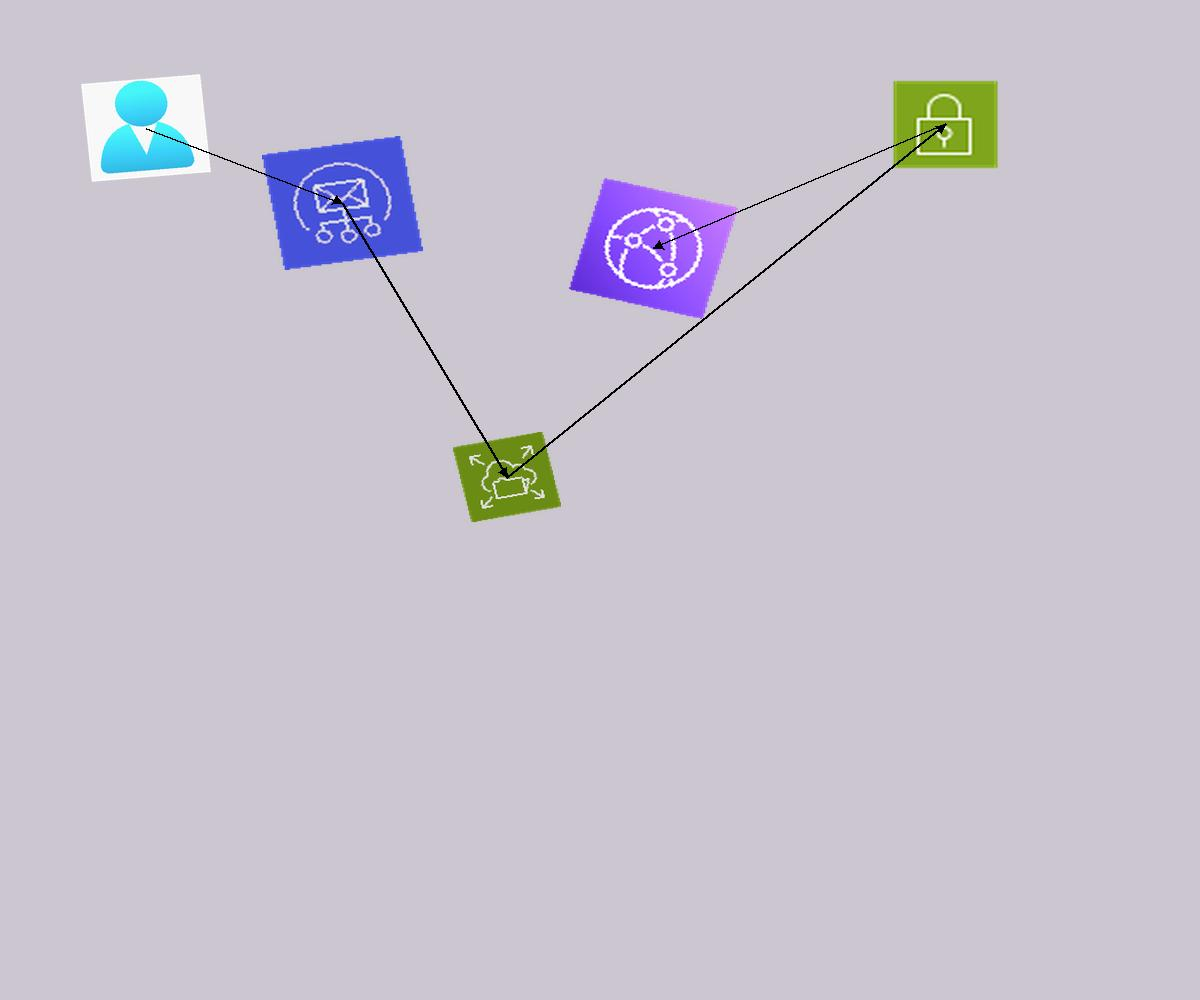AWS-CloudFront: (569, 178, 738, 319)
AWS-EFS: (452, 431, 562, 523)
AWS-Public-subnet: (891, 79, 1000, 170)
AWS-Simple-Email-Service: (262, 136, 423, 270)
Azure_users: (81, 74, 211, 182)
